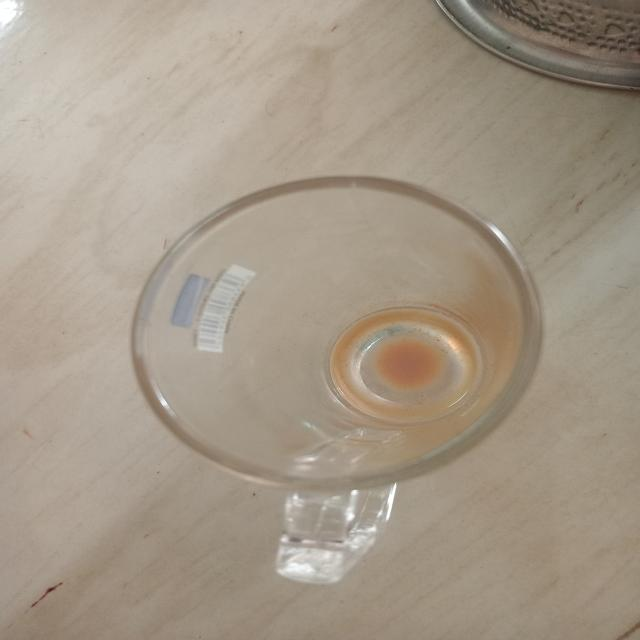glass-VX4N: (130, 173, 543, 587)
